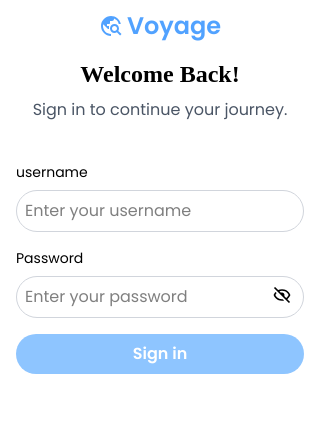
Test: LoginForm Tests › shows error message on invalid login
Step 1. Type "wrong" into the field labelled "username" → (160, 211), box [16,190,304,232]
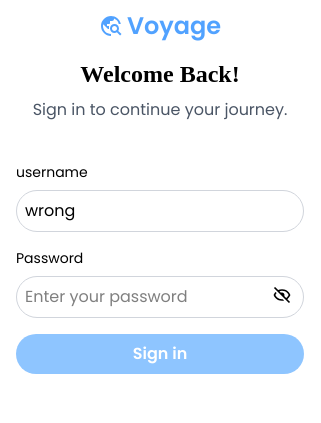
Step 2. Type "wrong" into the password field labelled "Password" → (160, 297), box [16,276,304,318]
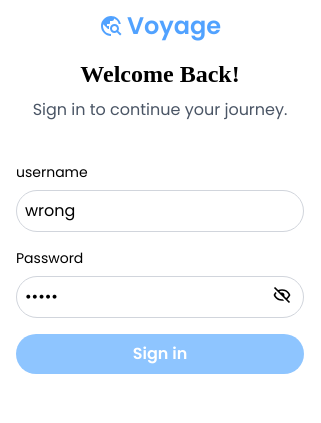
Step 3. Click the button "Sign in" → (160, 354), box [16,334,304,374]
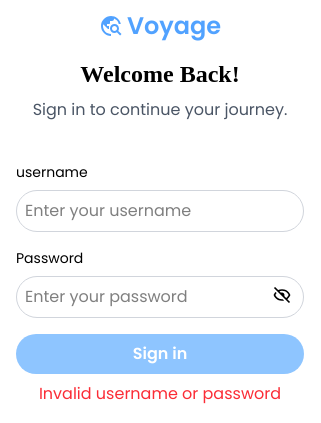
Now the text "Invalid username or password" is shown, box [39,382,281,406]
